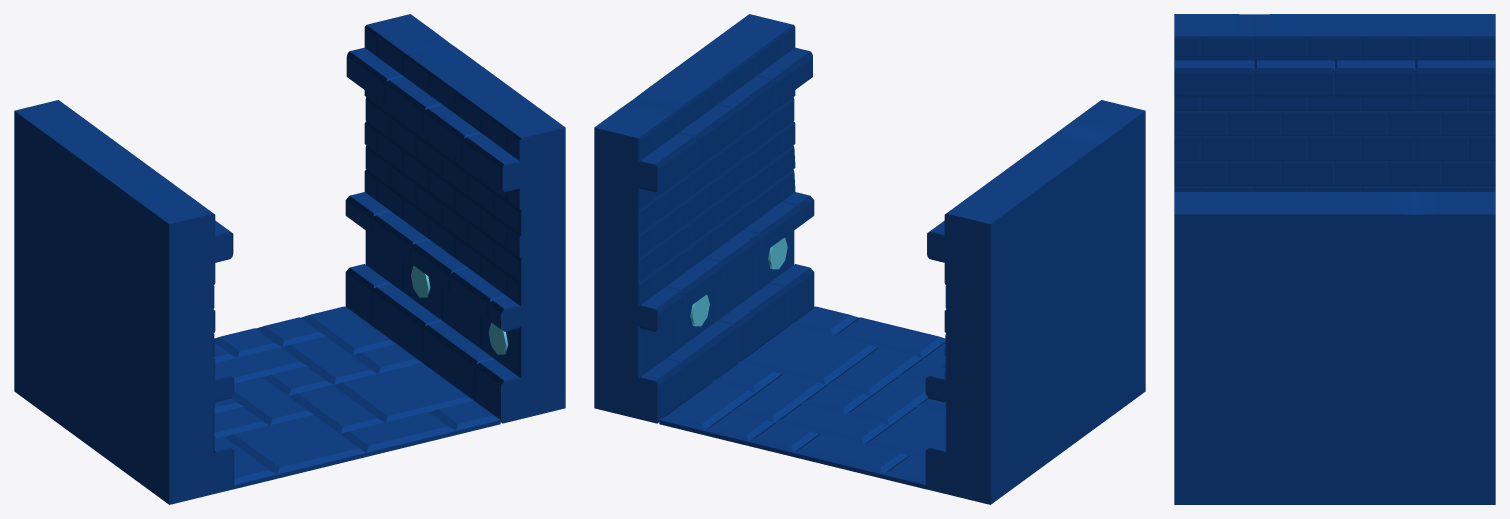
The model's file is AztecNewWall.obj.
3 renders of one model, left to right at view 1: azimuth 30°, elevation 25°; view 2: azimuth 150°, elevation 25°; view 3: azimuth 270°, elevation 25°, orthographic. The views are drawn at different scales.
Parts seen in each view (by area): view 1: Box008, Box007, Box001; view 2: Box008, Box007, Box001; view 3: Box008, Box007.
Part boxes in pixels (x1,y1,x2,y2): Box008: [345, 14, 565, 423]; Box007: [14, 100, 234, 504]; Box001: [213, 306, 500, 489]; Box008: [594, 14, 814, 423]; Box007: [925, 100, 1145, 504]; Box001: [659, 306, 945, 489]; Box008: [1174, 192, 1495, 504]; Box007: [1174, 14, 1495, 191].
Size of the model in its own units: 116 by 78.81 by 78.89.
